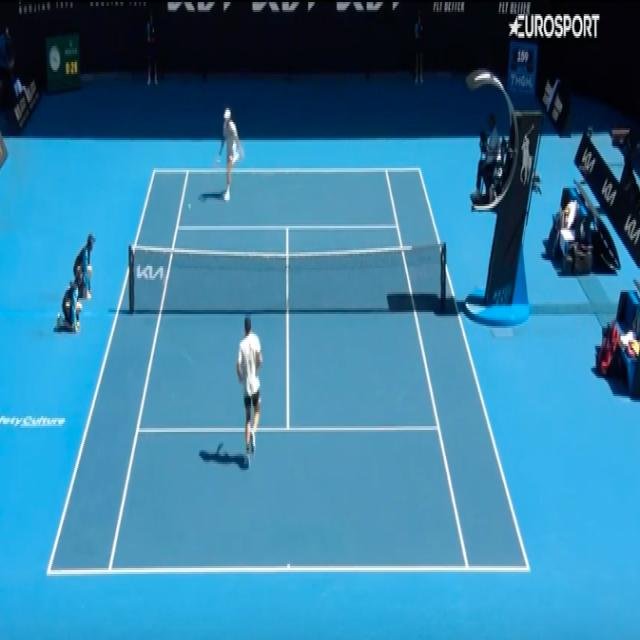ball: (188, 203, 192, 211)
